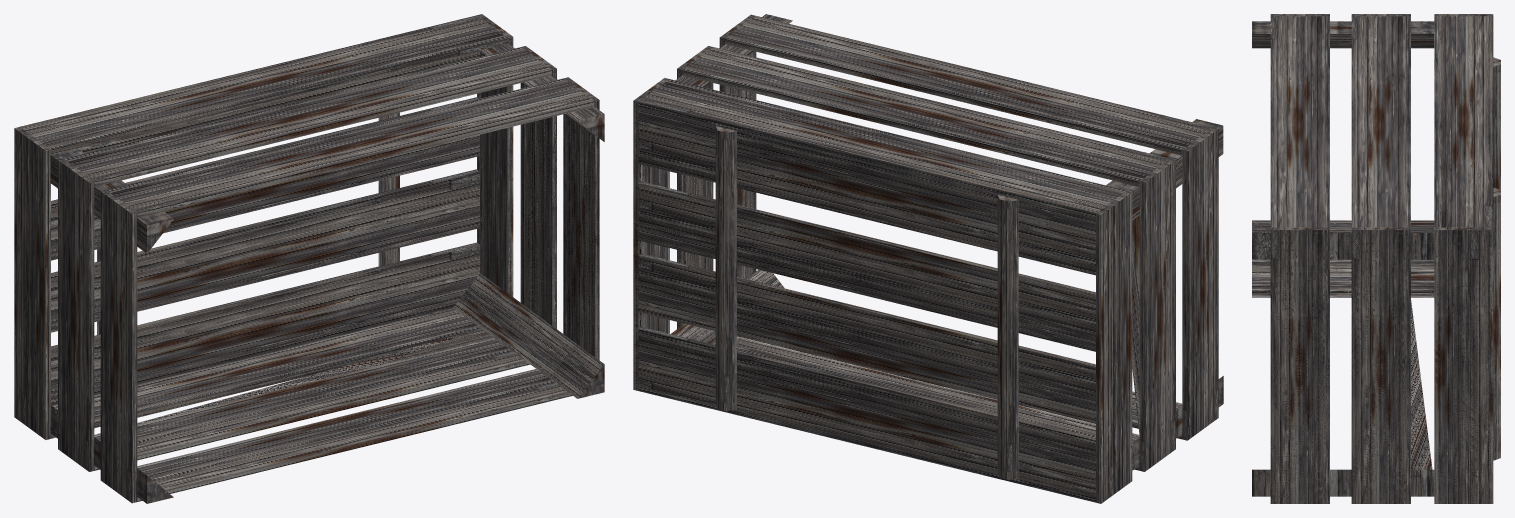
File: WoodenPlate.fbx
3 views of the same model, side by side, from view 1: azimuth 30°, elevation 25°; view 2: azimuth 150°, elevation 25°; view 3: azimuth 270°, elevation 25° (orthographic). The views are drawn at different scales.
Visible parts, largest first — view 1: WoodenPlate__Lod:1, WoodenPlate__Lod:0, WoodenPlate__Lod:3; view 2: WoodenPlate__Lod:0, WoodenPlate__Lod:1, WoodenPlate__Lod:2; view 3: WoodenPlate__Lod:0, WoodenPlate__Lod:1, WoodenPlate__Lod:3.
Part boxes in pixels (bbox=[...]): WoodenPlate__Lod:1: bbox=[15, 14, 604, 503]; WoodenPlate__Lod:0: bbox=[14, 37, 604, 503]; WoodenPlate__Lod:3: bbox=[94, 328, 492, 434]; WoodenPlate__Lod:0: bbox=[633, 23, 1223, 503]; WoodenPlate__Lod:1: bbox=[634, 14, 1223, 479]; WoodenPlate__Lod:2: bbox=[764, 15, 1139, 435]; WoodenPlate__Lod:0: bbox=[1252, 14, 1500, 503]; WoodenPlate__Lod:1: bbox=[1252, 14, 1500, 503]; WoodenPlate__Lod:3: bbox=[1411, 300, 1432, 469].
Size of the model in its own units: 60.55 by 35.78 by 29.48.
